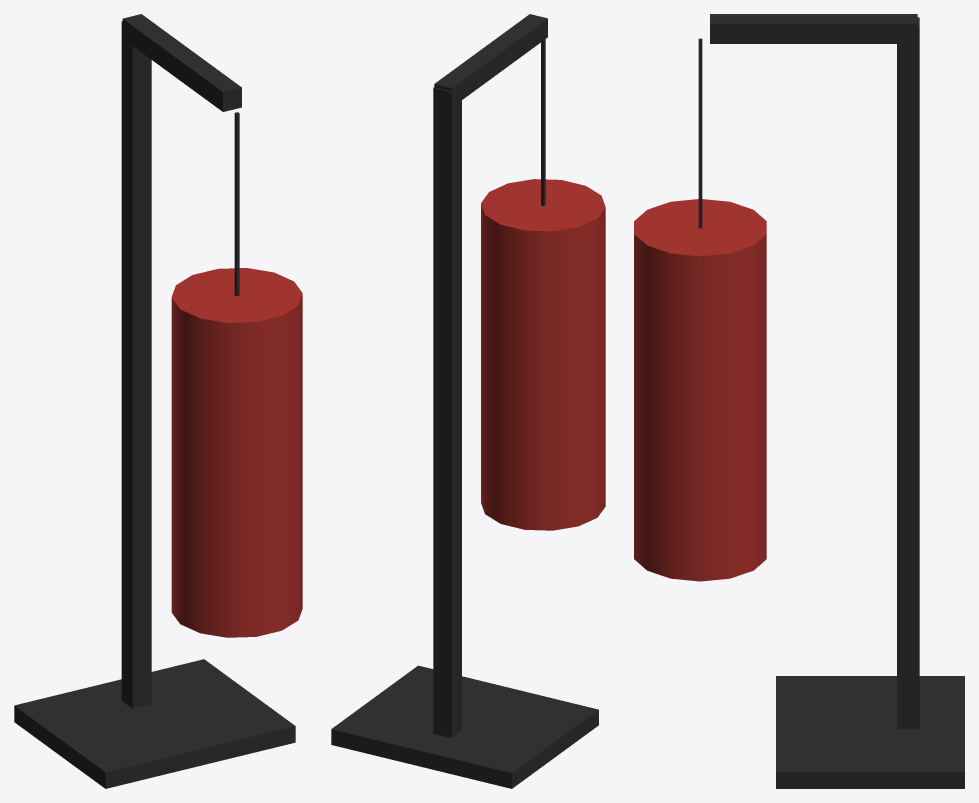
The model's file is punching_bag.glb.
The picture shows the model from 3 angles, left to right: view 1: azimuth 30°, elevation 25°; view 2: azimuth 150°, elevation 25°; view 3: azimuth 270°, elevation 25°; orthographic projection. The views are drawn at different scales.
Visible parts, largest first — view 1: punching_bag; view 2: punching_bag; view 3: punching_bag.
Part boxes in pixels (left/top/right/bottom): punching_bag: left=14, top=14, right=302, bottom=788; punching_bag: left=331, top=14, right=605, bottom=788; punching_bag: left=634, top=14, right=964, bottom=788.
Size of the model in its own units: 0.6 by 2.11 by 0.8755.
